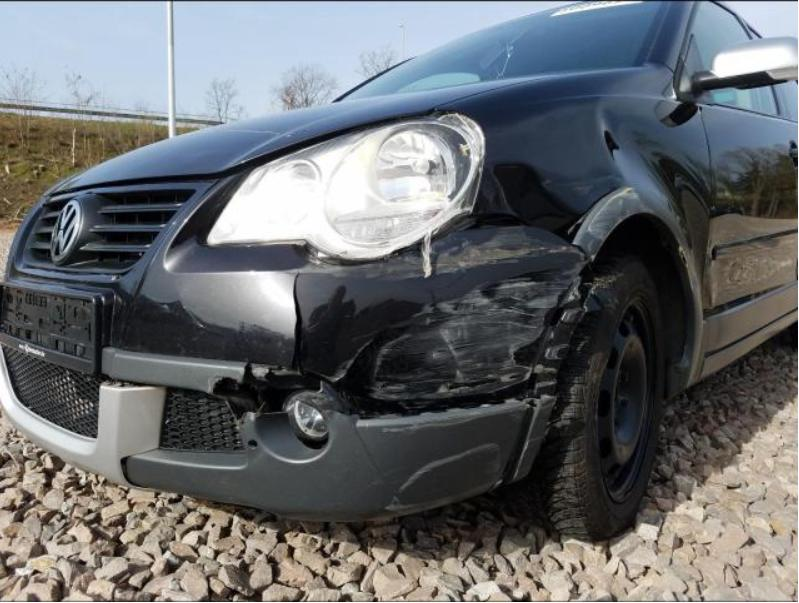Back-door: (777, 79, 797, 137), (744, 21, 763, 39)
Back-window: (780, 83, 798, 122), (751, 31, 760, 37)
Fender: (433, 61, 710, 382)
Front-bumper: (1, 172, 590, 526)
Front-door: (674, 1, 797, 354)
Front-wheel: (517, 251, 668, 544)
Front-window: (695, 3, 749, 68), (713, 86, 778, 114)
Grille: (12, 178, 218, 299)
Headlight: (205, 115, 480, 259)
Hood: (46, 73, 560, 195)
License-plate: (4, 282, 95, 369)
Mirror: (693, 37, 797, 92)
Rocker-panel: (700, 309, 798, 384)
Windshield: (336, 1, 671, 102)
